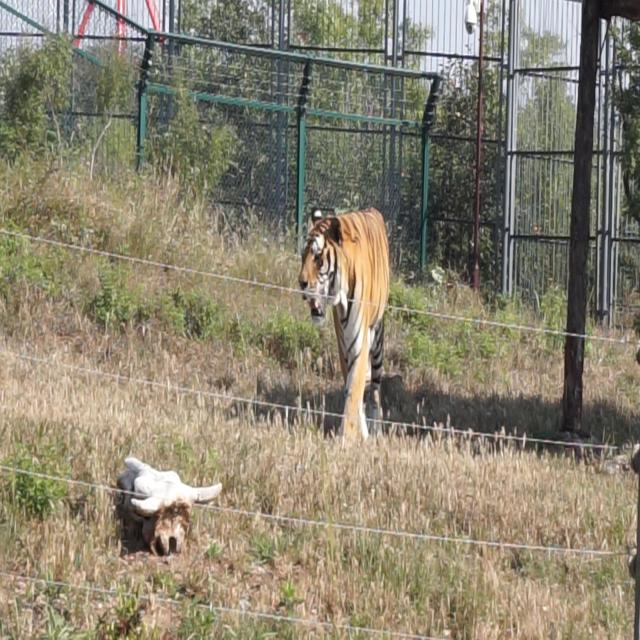Tiger: (298, 175, 414, 437)
